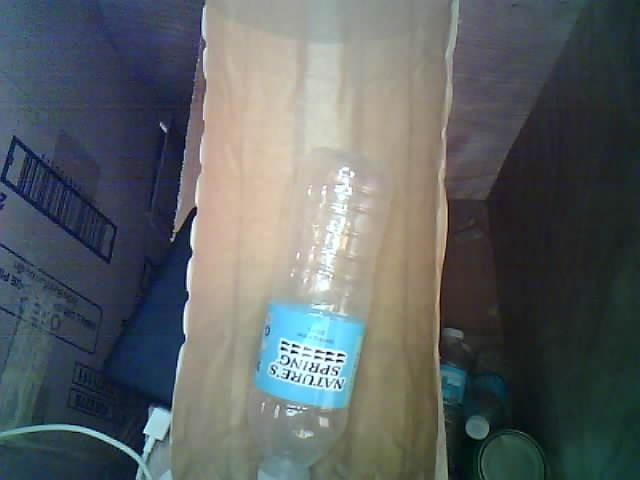small_bottle: (230, 141, 399, 480)
